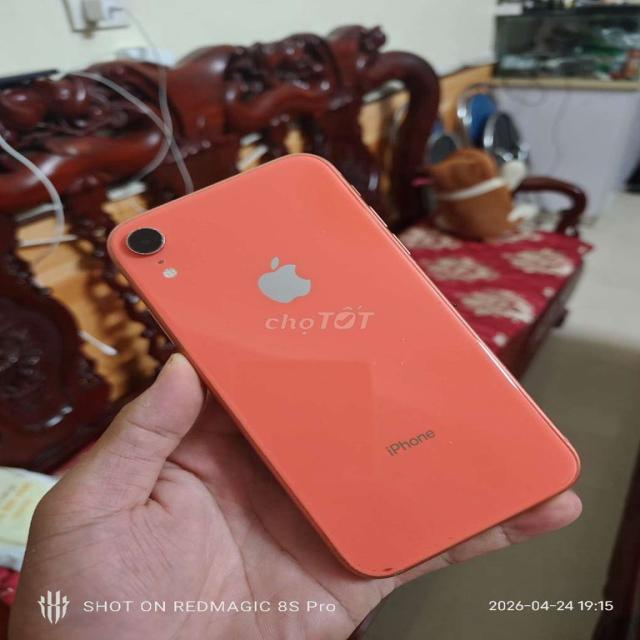gen_x_xs: (83, 141, 591, 576)
